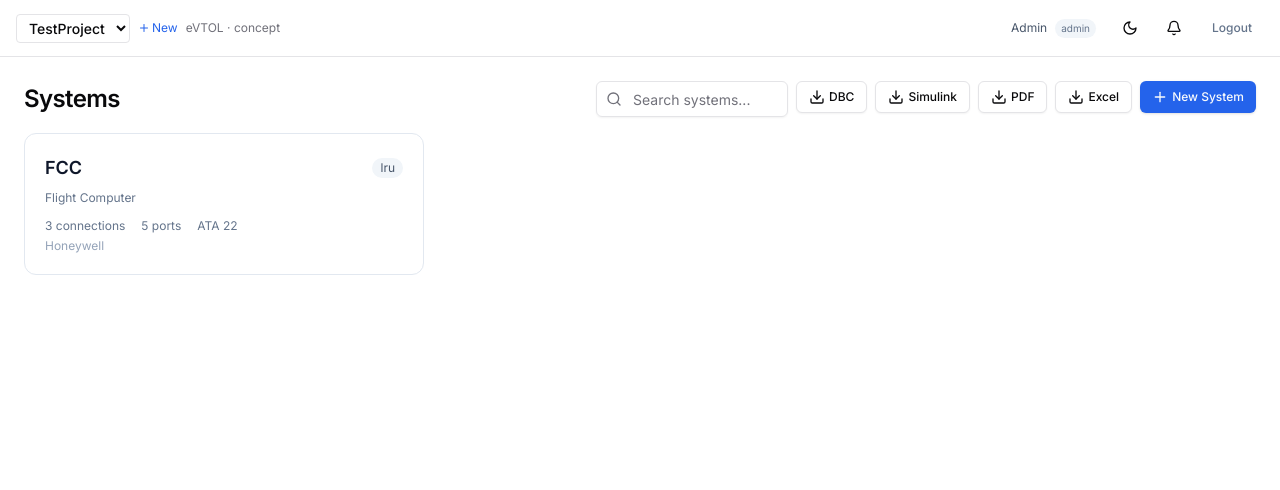
Test case: Systems Page › New System button toggles form
The width and height of the screenshot is (1280, 490).
Click the button "New System" at (1198, 97), box [1140, 81, 1256, 113]
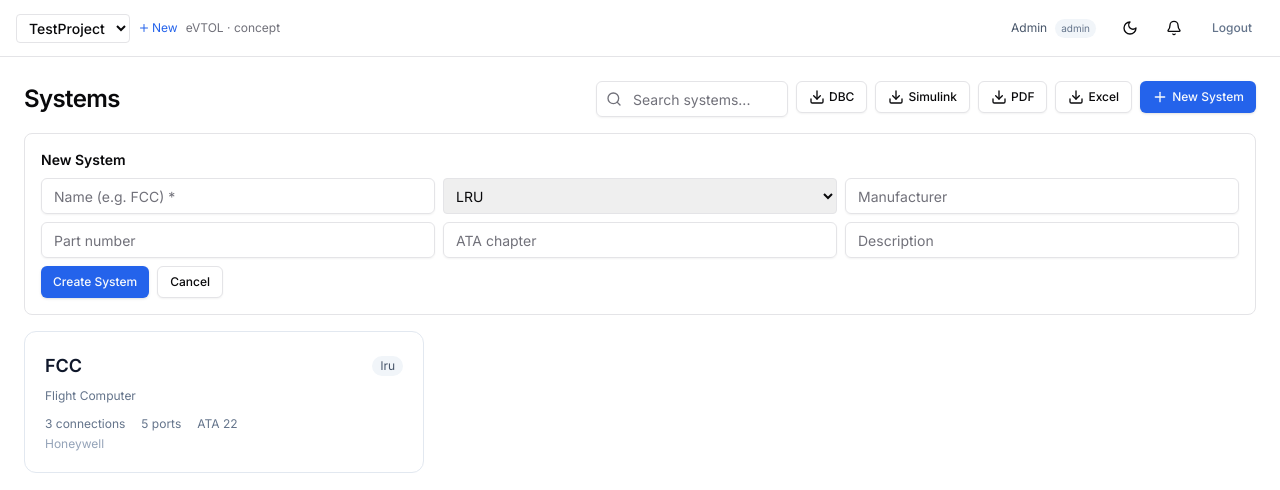
Check: the field with placeholder "Name (e.g. FCC) *" is shown, box [41, 178, 435, 214]
Check: the button "Create System" is shown, box [41, 266, 149, 298]
Check: the button "Cancel" is shown, box [157, 266, 223, 298]
